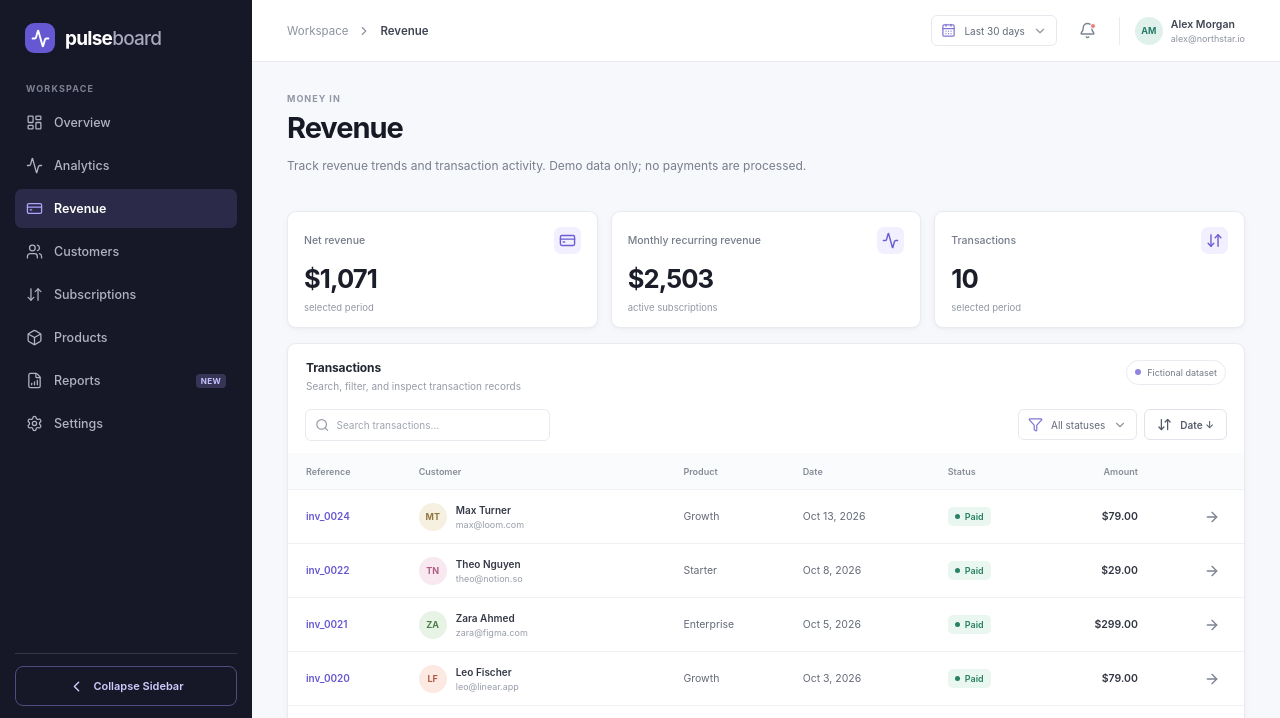
Scenario: PulseBoard application › searches customer records and opens a customer detail dialog
Click the link "Customers" at (73,252), box left=26, top=243, right=119, bottom=260
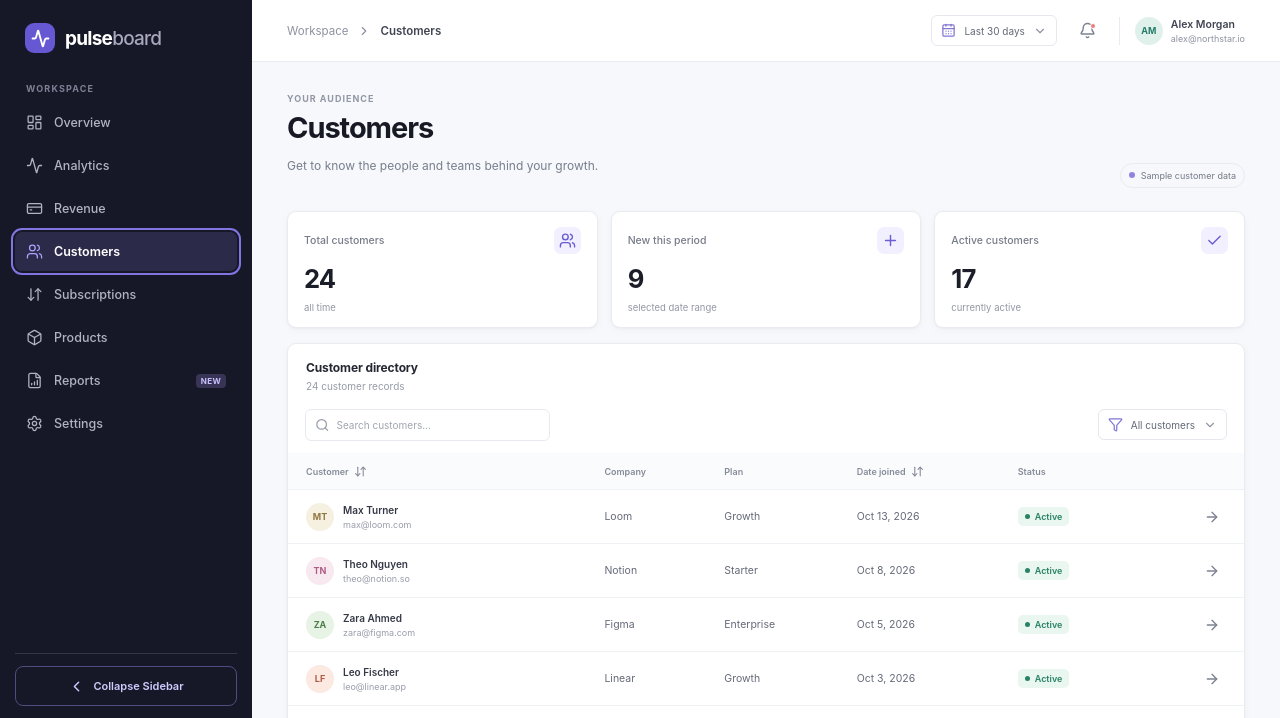
Type "Olivia" into the field with placeholder "Search customers..." at (438,425), box left=336, top=419, right=540, bottom=431
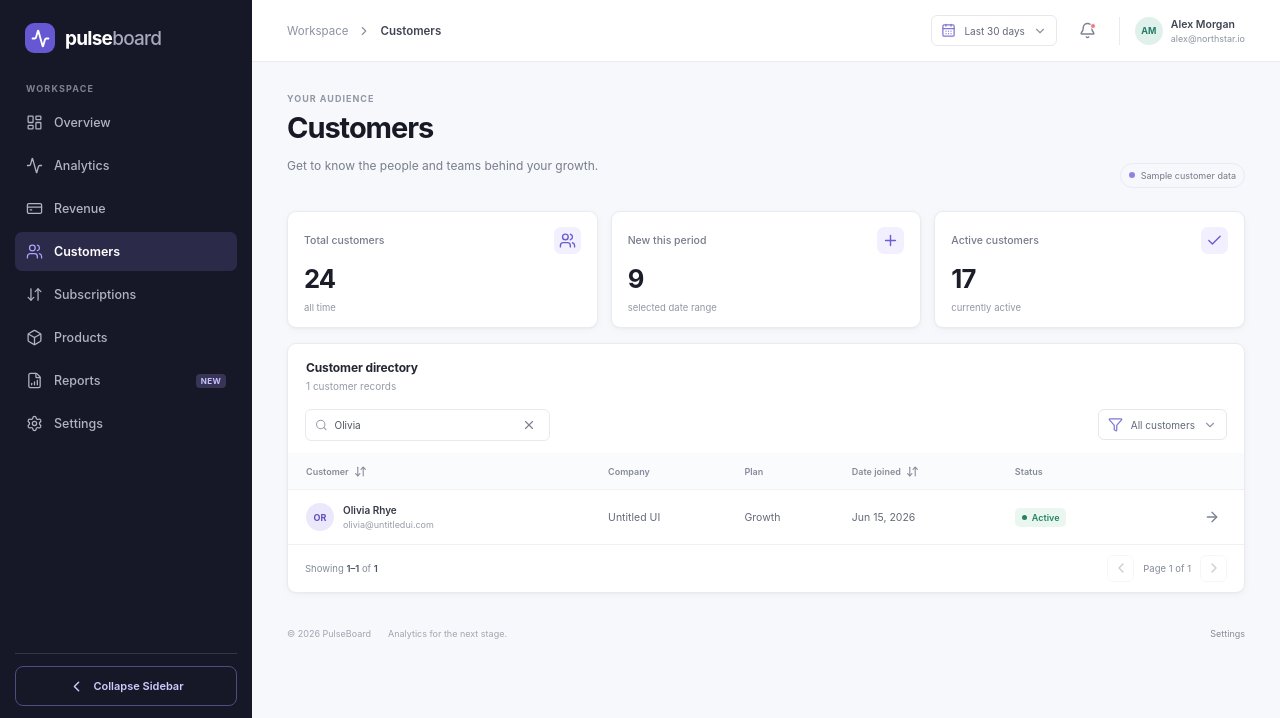
expect the number of buttons "OR Olivia Rhye olivia@untitledui.com" is 2: met
Click the button "OR Olivia Rhye olivia@untitledui.com" at (377,517), box left=306, top=503, right=448, bottom=531
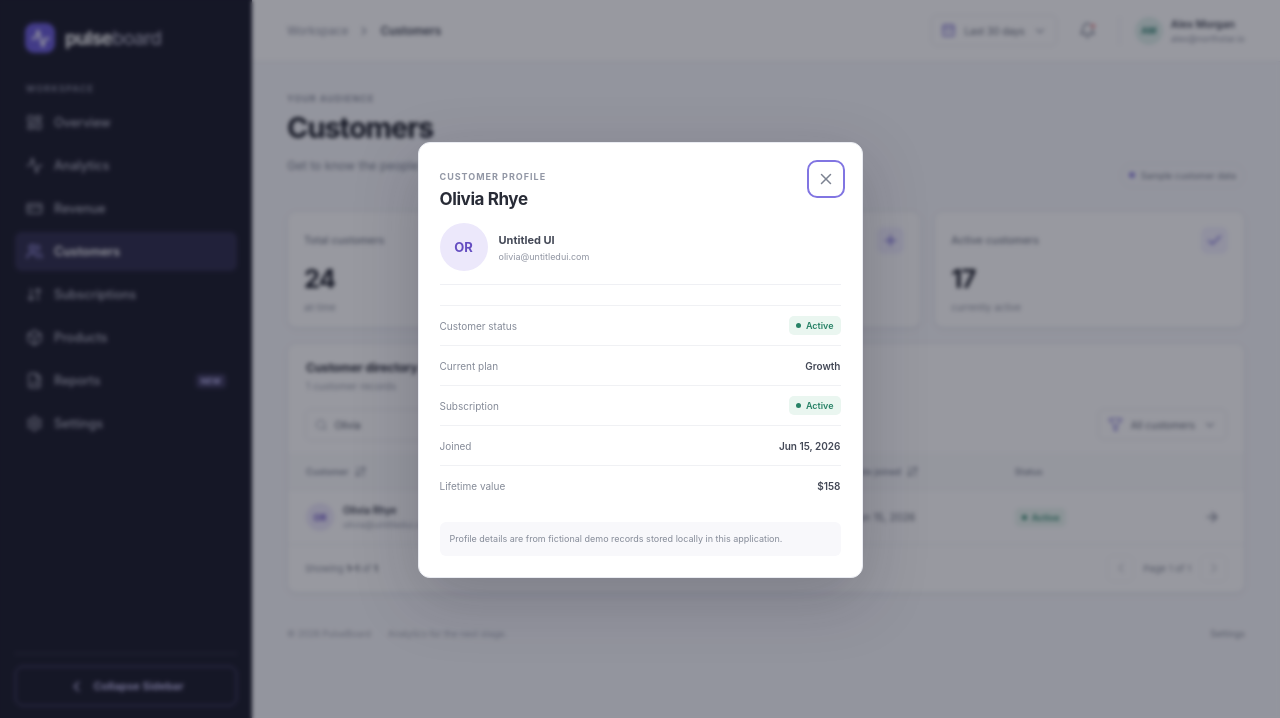
expect the dialog "Olivia Rhye" is shown: met, box left=418, top=142, right=862, bottom=578
expect the text "Untitled UI" is shown: met, box left=498, top=233, right=555, bottom=247
